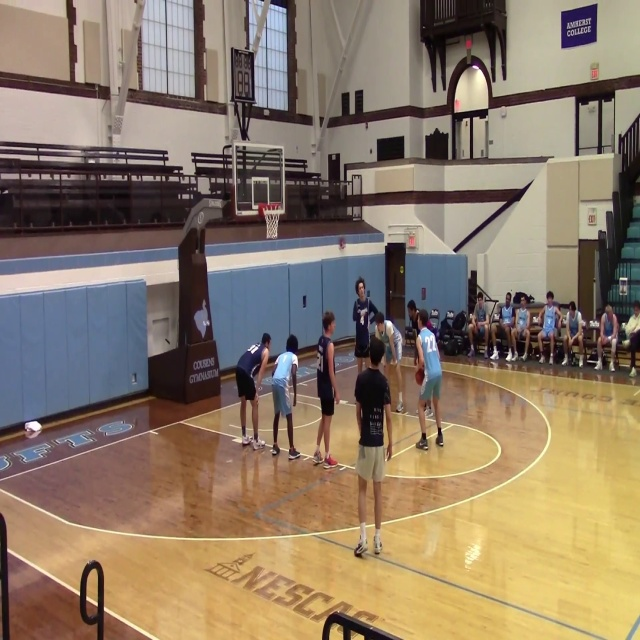Basketball: (24, 420, 42, 438), (25, 420, 42, 433), (414, 368, 424, 385)
